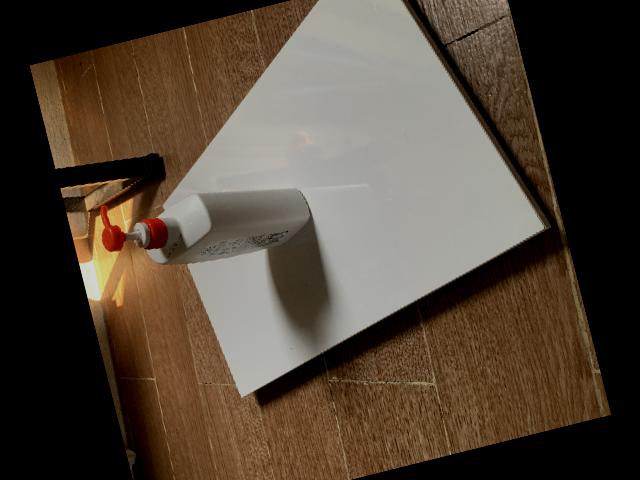life-buoy: (100, 187, 311, 263)
